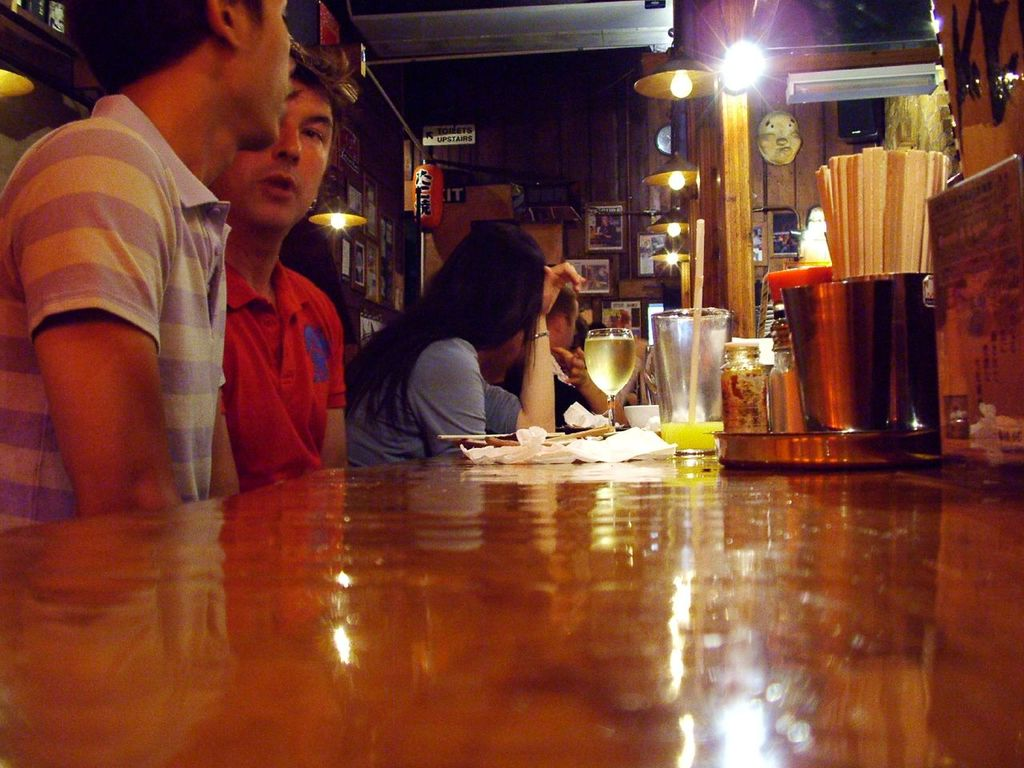Beer: (585, 325, 637, 432)
